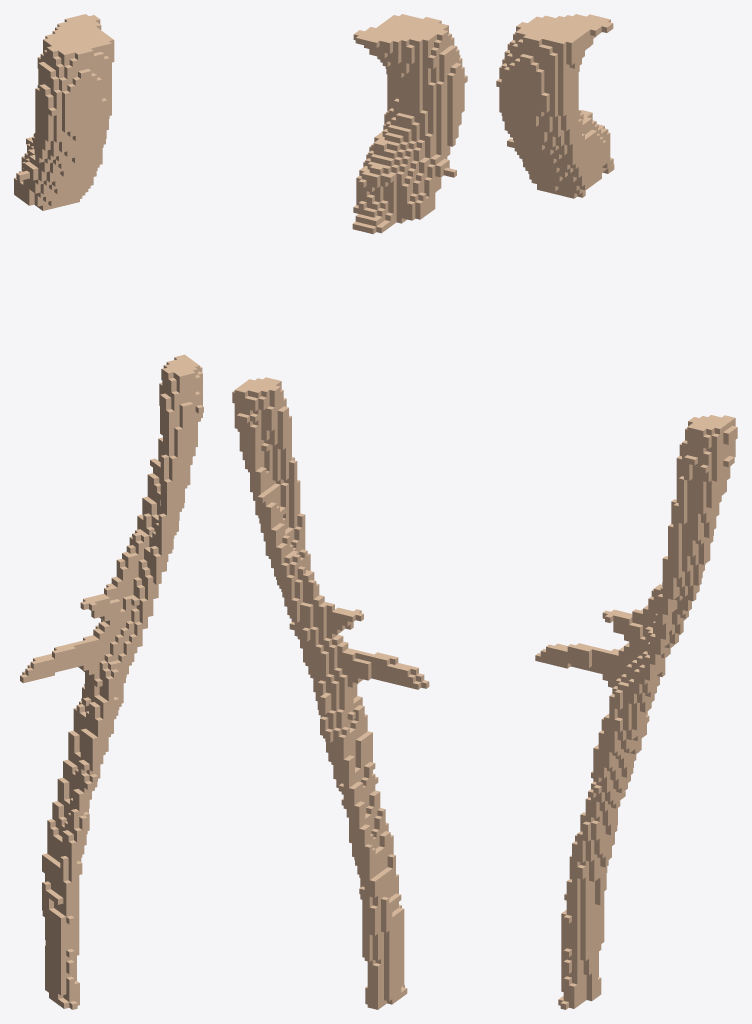
The model's file is aorta.fbx.
3 views of the same model, side by side, from view 1: azimuth 30°, elevation 25°; view 2: azimuth 150°, elevation 25°; view 3: azimuth 330°, elevation 25° (orthographic). The views are drawn at different scales.
Visible parts, largest first — view 1: AustinMan; view 2: AustinMan; view 3: AustinMan.
Part boxes in pixels (x1,y1,x2,y2): AustinMan: (14, 14, 203, 1009); AustinMan: (232, 14, 467, 1009); AustinMan: (496, 14, 737, 1009).
Bounding box in the file's own units: 3800 × 17600 × 2200.
